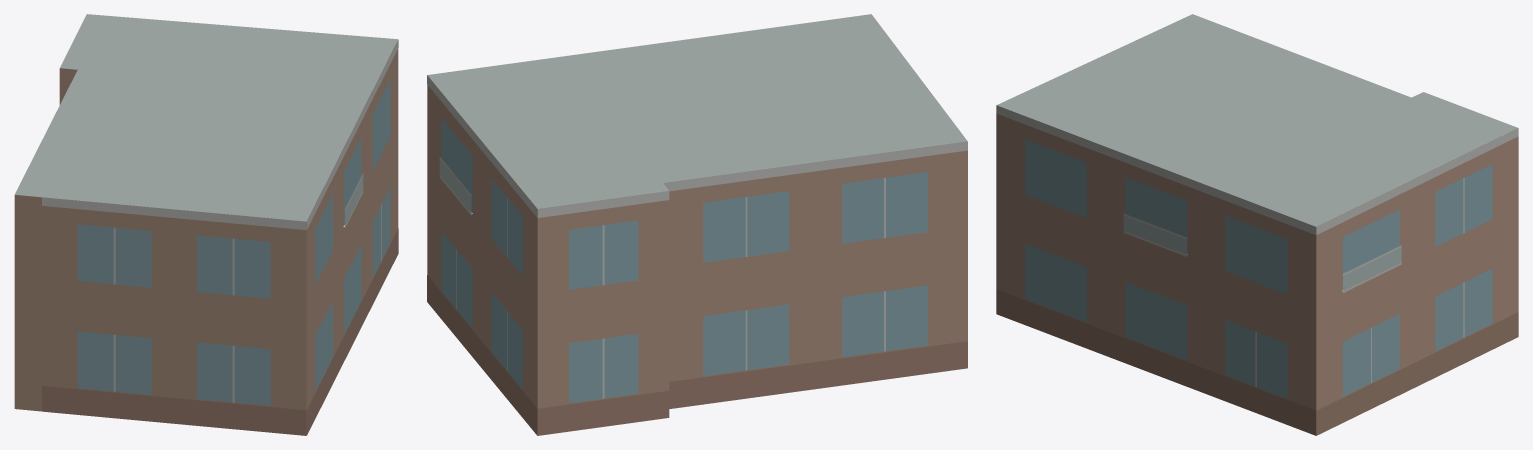
File: survey-upis-32672965.glb
The picture shows the model from 3 angles, left to right: view 1: azimuth 30°, elevation 25°; view 2: azimuth 150°, elevation 25°; view 3: azimuth 270°, elevation 25°; orthographic projection. The views are drawn at different scales.
Visible parts, largest first — view 1: survey-upis-32672965.tmp; view 2: survey-upis-32672965.tmp; view 3: survey-upis-32672965.tmp.
Boxes of the visible parts, x1=… form: survey-upis-32672965.tmp: x1=14, y1=14, x2=398, y2=435; survey-upis-32672965.tmp: x1=427, y1=14, x2=967, y2=435; survey-upis-32672965.tmp: x1=996, y1=14, x2=1518, y2=435.
Bounding box in the file's own units: 13.34 × 6.1 × 13.82.
